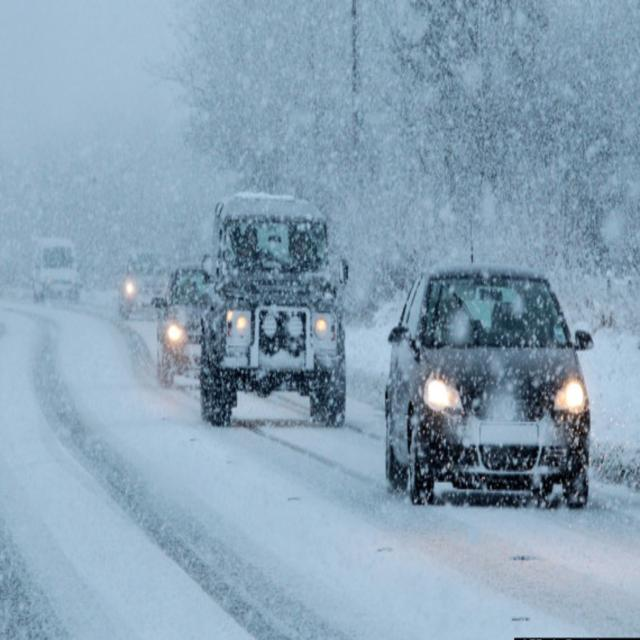car: (382, 264, 600, 512), (204, 192, 348, 430), (157, 263, 208, 389), (116, 249, 168, 321), (32, 234, 80, 304)
